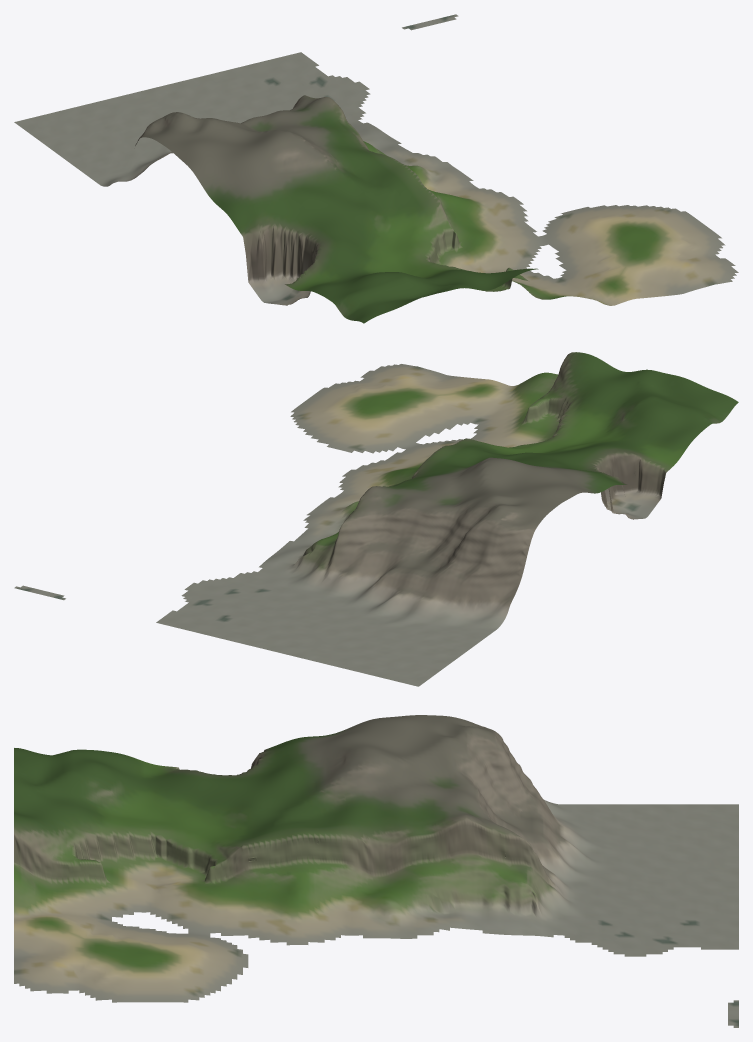
Rendered from coast_tile_x1z0.glb.
The picture shows the model from 3 angles, top to bottom: view 1: azimuth 30°, elevation 25°; view 2: azimuth 150°, elevation 25°; view 3: azimuth 270°, elevation 25°; orthographic projection. The views are drawn at different scales.
Parts seen in each view (by area): view 1: coast_tile_x1z0; view 2: coast_tile_x1z0; view 3: coast_tile_x1z0.
Part boxes in pixels (x1,y1,x2,y2): coast_tile_x1z0: (14, 14, 738, 323); coast_tile_x1z0: (14, 352, 738, 686); coast_tile_x1z0: (14, 715, 738, 1027).
Bounding box in the file's own units: 582 × 119 × 798.
